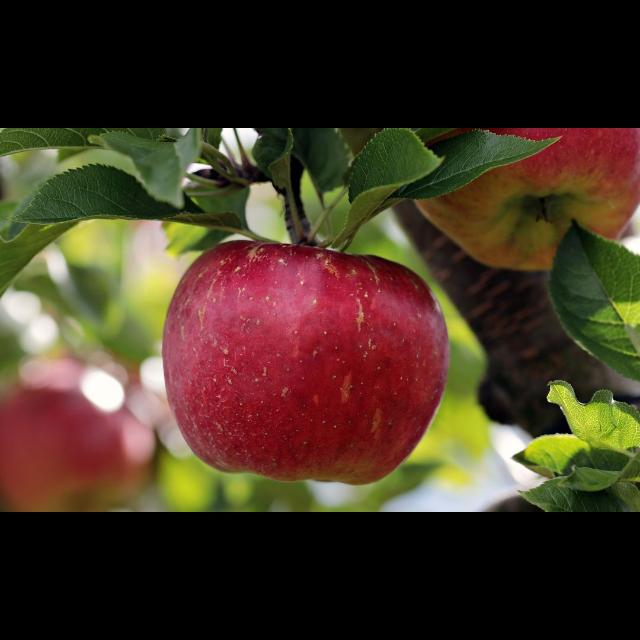Apel Segar: (156, 223, 460, 499)
